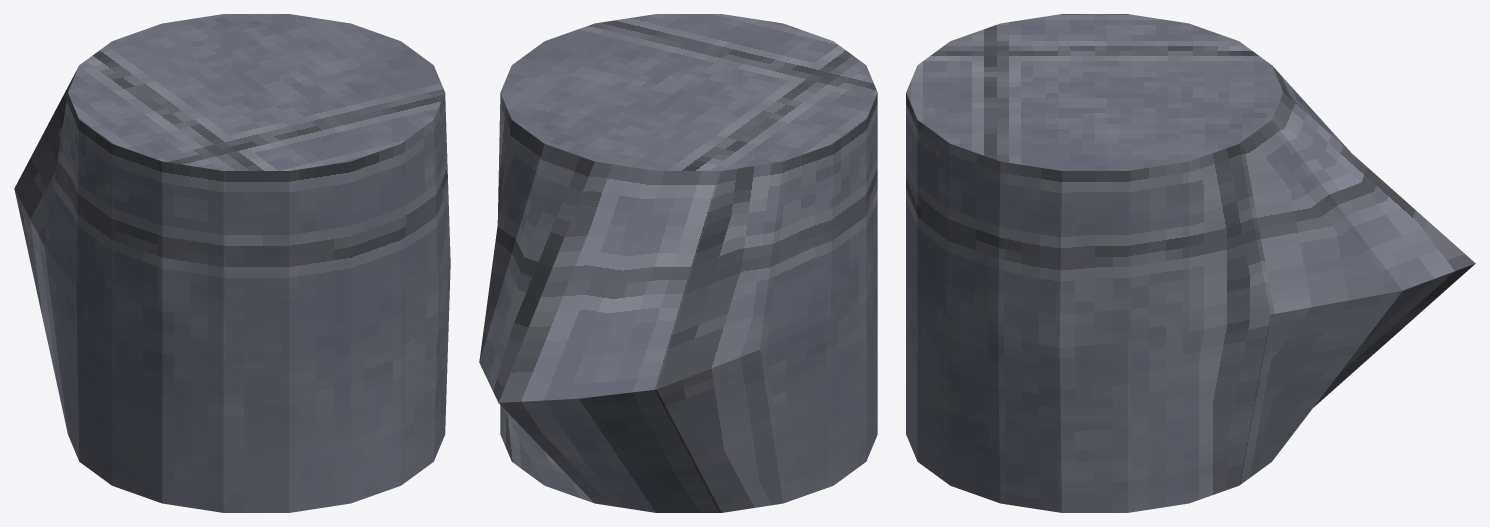
The model's file is Prueba1blender.glb.
3 views of the same model, side by side, from view 1: azimuth 30°, elevation 25°; view 2: azimuth 150°, elevation 25°; view 3: azimuth 270°, elevation 25° (orthographic).
Visible parts, largest first — view 1: Cylinder; view 2: Cylinder; view 3: Cylinder.
Boxes of the visible parts, x1,y1,x2,y2 form: Cylinder: [14, 14, 450, 512]; Cylinder: [479, 14, 877, 512]; Cylinder: [906, 14, 1475, 512].
Bounding box in the file's own units: 2.05 × 2 × 3.02.
Materials: 1 (1 with a texture image).
